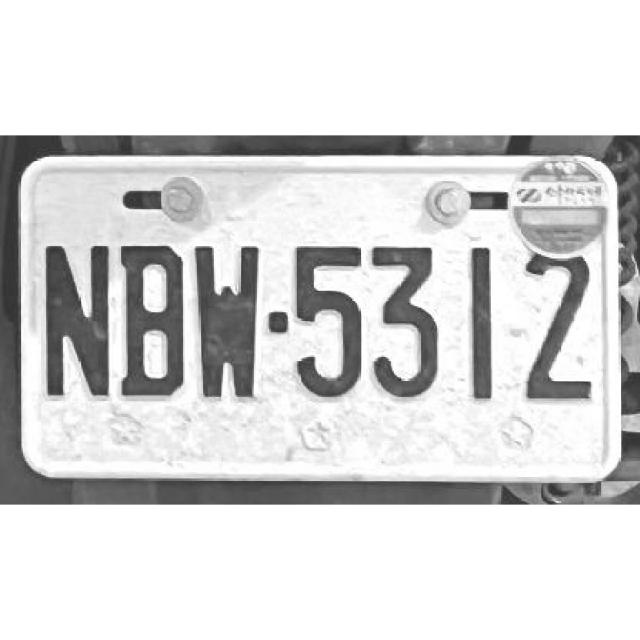-: (269, 311, 289, 332)
1: (468, 244, 495, 394)
2: (518, 245, 592, 404)
3: (369, 243, 442, 406)
5: (291, 240, 366, 395)
B: (117, 243, 186, 395)
N: (43, 240, 117, 397)
W: (196, 241, 262, 397)
